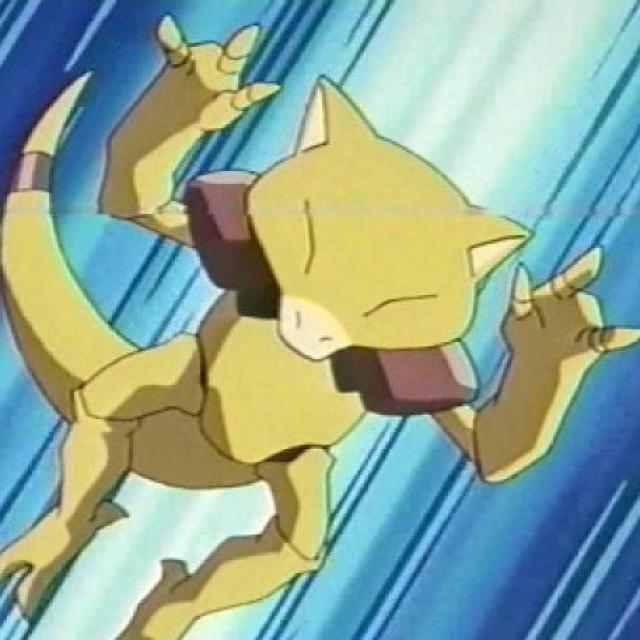Abra: (100, 82, 529, 576)
